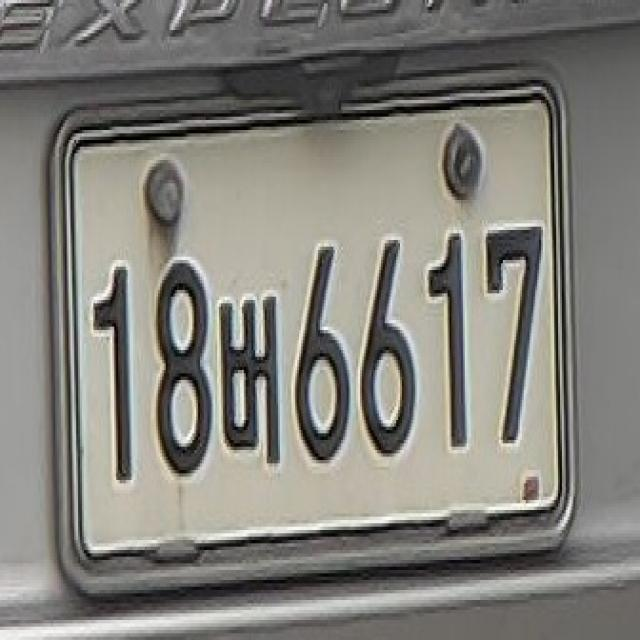1: (78, 254, 141, 494), (421, 220, 480, 457)
6: (290, 243, 356, 467), (358, 227, 419, 460)
7: (482, 210, 548, 453)
8: (150, 250, 216, 483)
beo: (217, 290, 284, 473)
license_plate: (49, 60, 581, 607)
